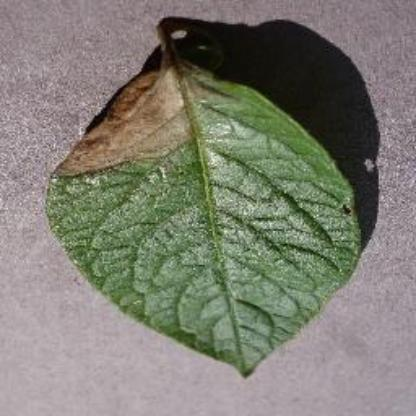Late-Blight: (40, 20, 376, 390)
